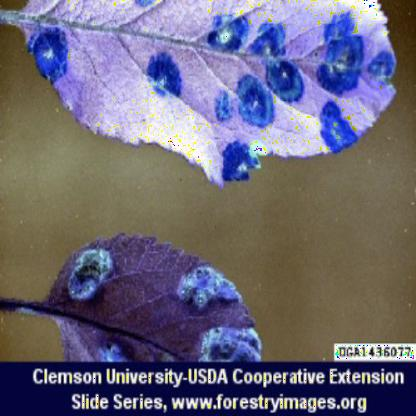apple rust leaf: (1, 3, 409, 203), (30, 223, 273, 363)
